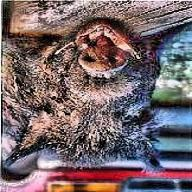boar: (0, 1, 192, 189)
